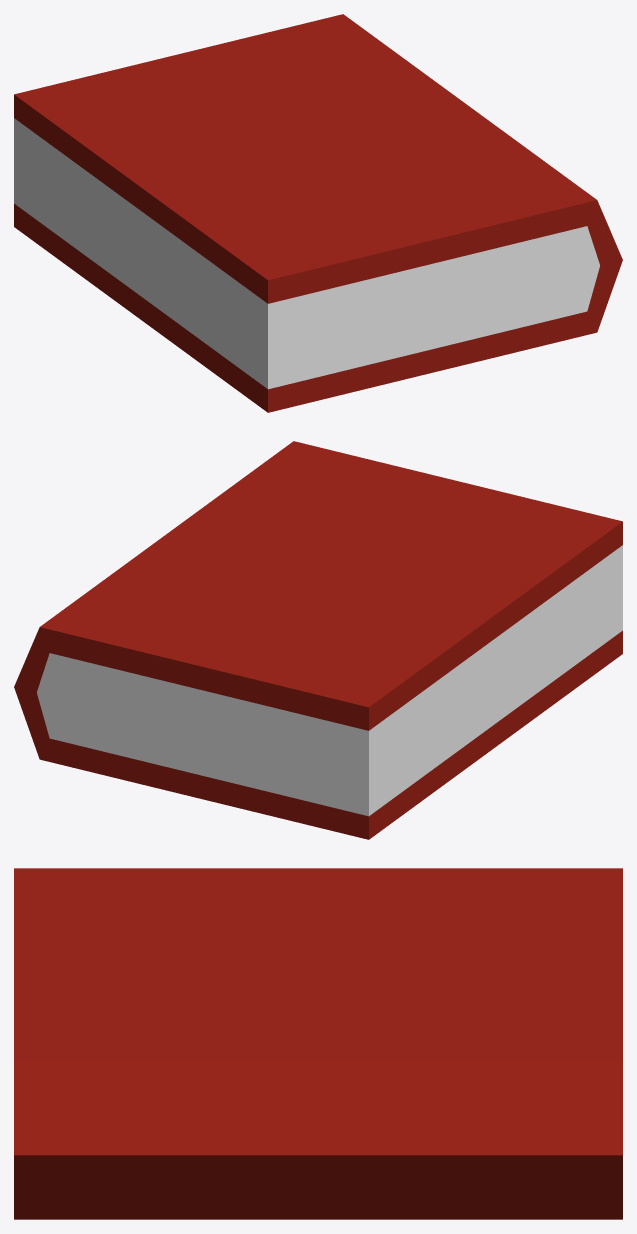
The model's file is SM_Big_Book_01.fbx.
3 renders of one model, top to bottom at view 1: azimuth 30°, elevation 25°; view 2: azimuth 150°, elevation 25°; view 3: azimuth 270°, elevation 25°, orthographic. The views are drawn at different scales.
Parts seen in each view (by area): view 1: SM_BigBook; view 2: SM_BigBook; view 3: SM_BigBook.
Part boxes in pixels (x1=…): SM_BigBook: x1=14, y1=14, x2=622, y2=412; SM_BigBook: x1=14, y1=441, x2=622, y2=839; SM_BigBook: x1=14, y1=868, x2=622, y2=1219.
Size of the model in its own units: 10.89 by 3.88 by 13.5.
